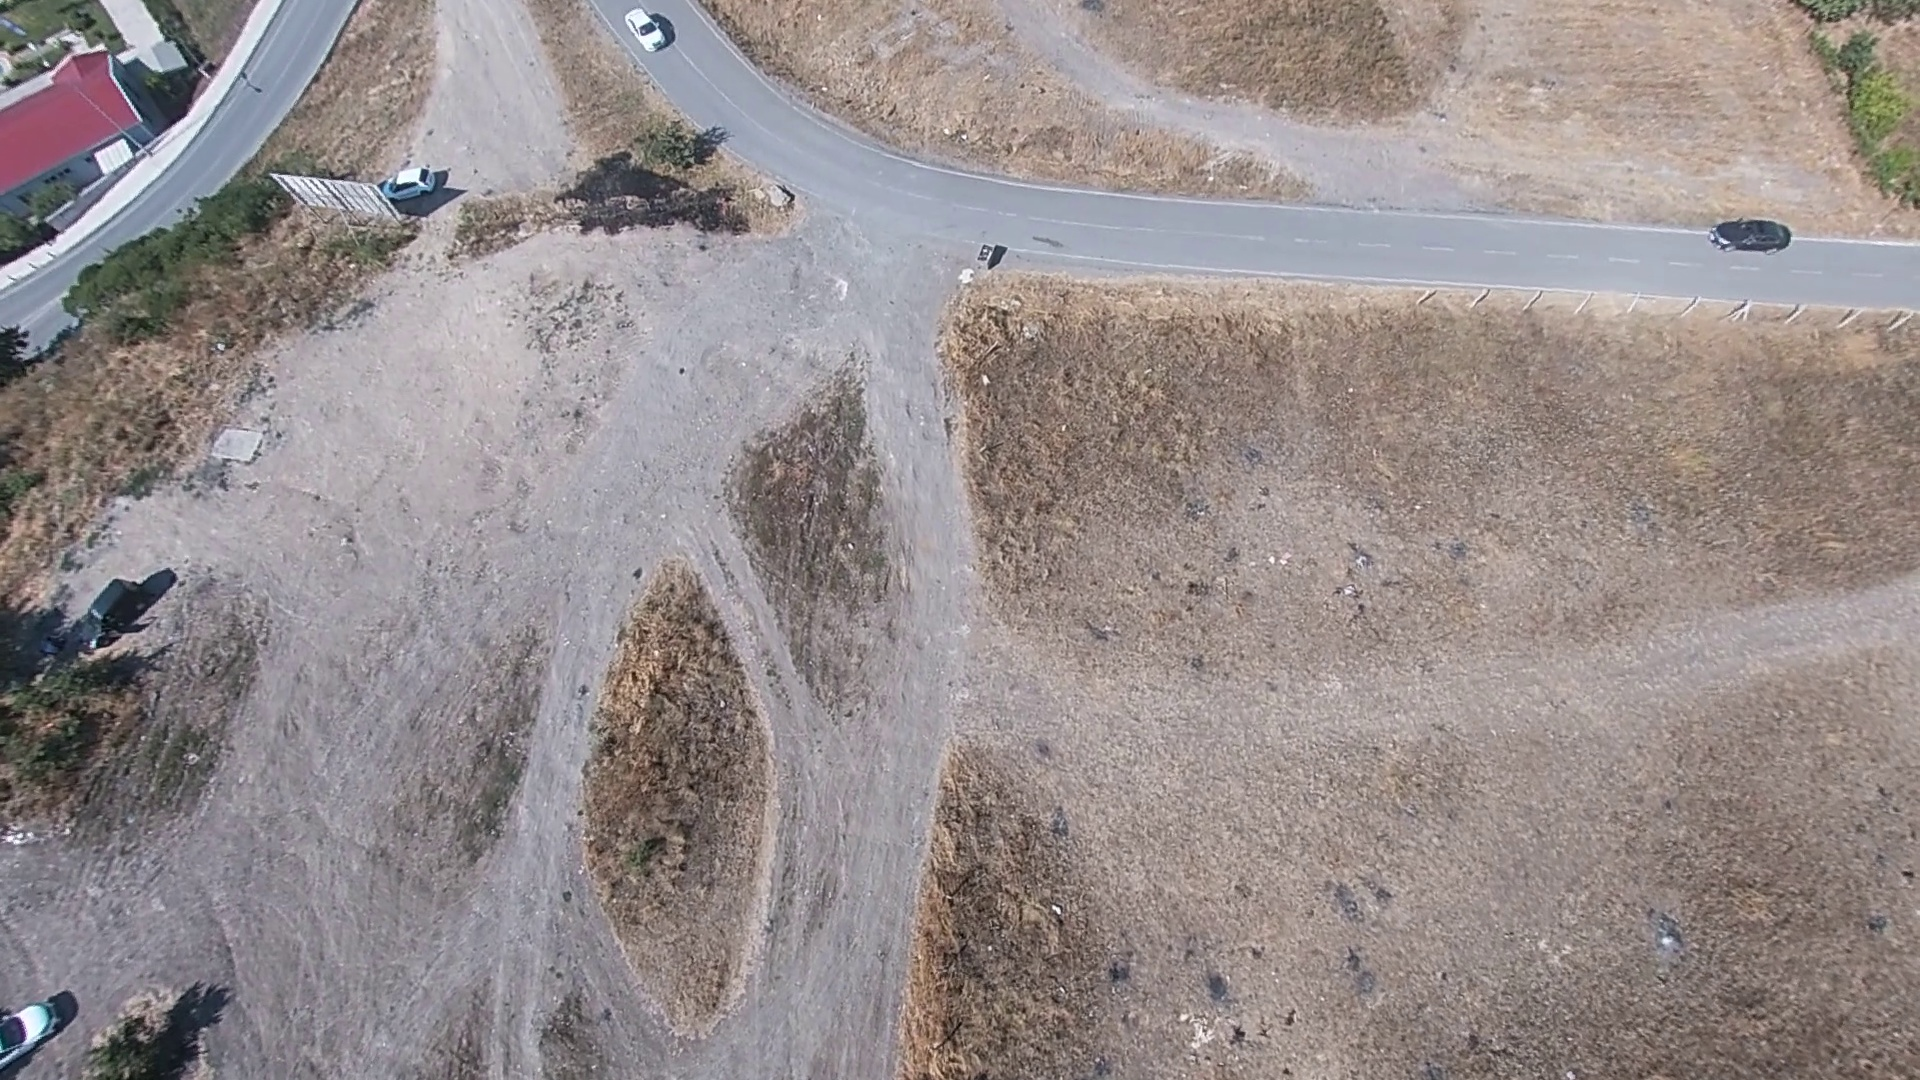arac: (1708, 212, 1792, 261), (377, 160, 452, 204), (622, 9, 674, 54)
